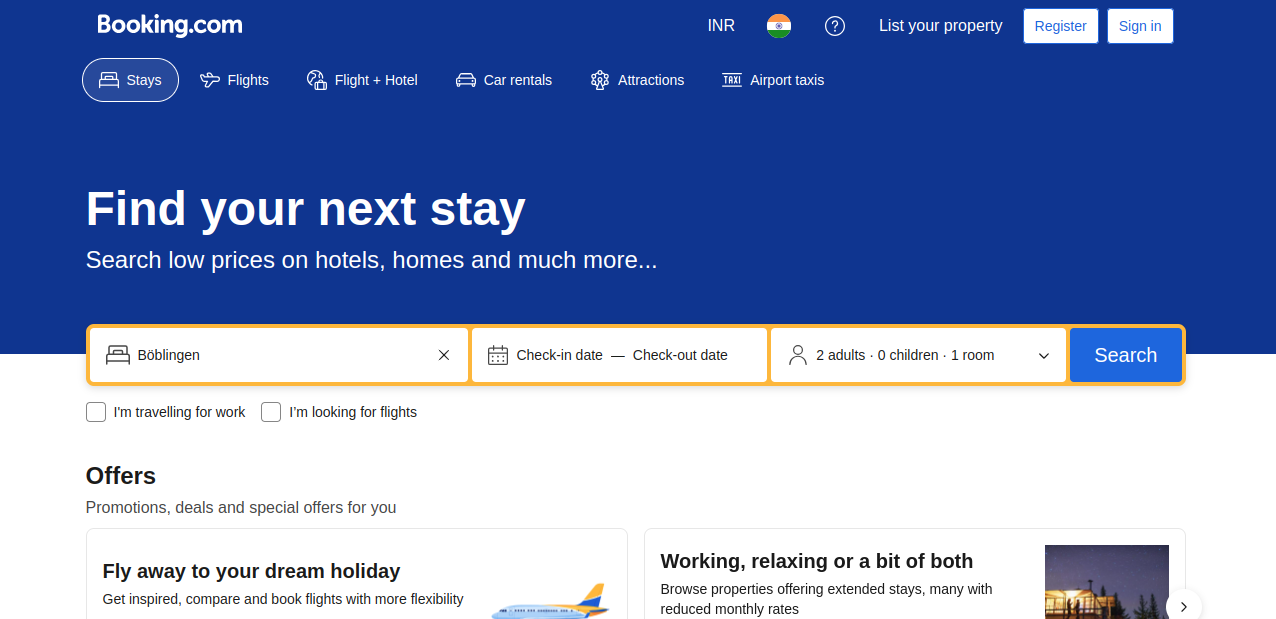menu-bar: (14, 11, 1256, 131)
